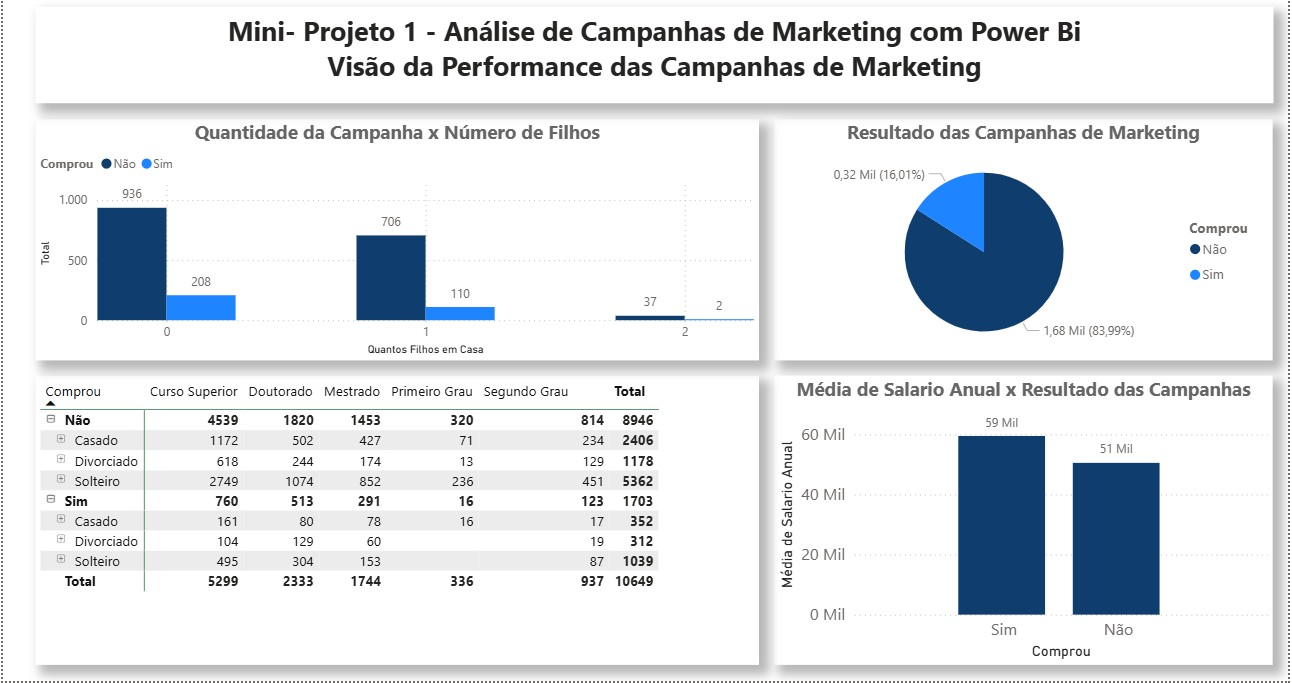

The page's visual inventory and layout, read from the dashboard file:
{"tool":"powerbi","page":{"name":"Visão Campanhas","canvas":[1280,720],"ordinal":2},"visuals":[{"type":"pieChart","title":"Resultado das Campanhas de Marketing","fields":{"Category":["Dados Marketing.Comprou"],"Y":["CountNonNull(Dados Marketing.ID)"]},"box":[768,160,496,240],"z":0},{"type":"clusteredColumnChart","title":"Média de Salario Anual x Resultado das Campanhas","fields":{"Category":["Dados Marketing.Comprou"],"Y":["Avg(Dados Marketing.Salario Anual)"]},"box":[768,416,496,288],"z":1000},{"type":"pivotTable","fields":{"Rows":["Dados Marketing.Comprou","Dados Marketing.Estado Civil","Dados Marketing.Pais"],"Values":["Sum(Dados Marketing.Numero Visitas WebSite Mes)"],"Columns":["Dados Marketing.Escolaridade"]},"box":[32,416,720,288],"z":2000},{"type":"clusteredColumnChart","title":"Quantidade da Campanha x Número de Filhos","fields":{"Series":["Dados Marketing.Comprou"],"Y":["CountNonNull(Dados Marketing.Filhos em Casa)"],"Category":["Dados Marketing.Filhos em Casa"]},"box":[32,160,720,240],"z":2001},{"type":"textbox","box":[32,48,1232,96],"z":2002}]}

Visuals, with their boxes on the page's 1280x720 design canvas (x1, y1, x2, y2). These are canvas units, not pixel positions in the 1292x683 screenshot, which may show the page scaled, cropped or inside an application window:
"Resultado das Campanhas de Marketing" pieChart: locate(768, 160, 1264, 400)
"Média de Salario Anual x Resultado das Campanhas" clusteredColumnChart: locate(768, 416, 1264, 704)
pivotTable - Dados Marketing.Comprou x Dados Marketing.Estado Civil: locate(32, 416, 752, 704)
"Quantidade da Campanha x Número de Filhos" clusteredColumnChart: locate(32, 160, 752, 400)
textbox: locate(32, 48, 1264, 144)
